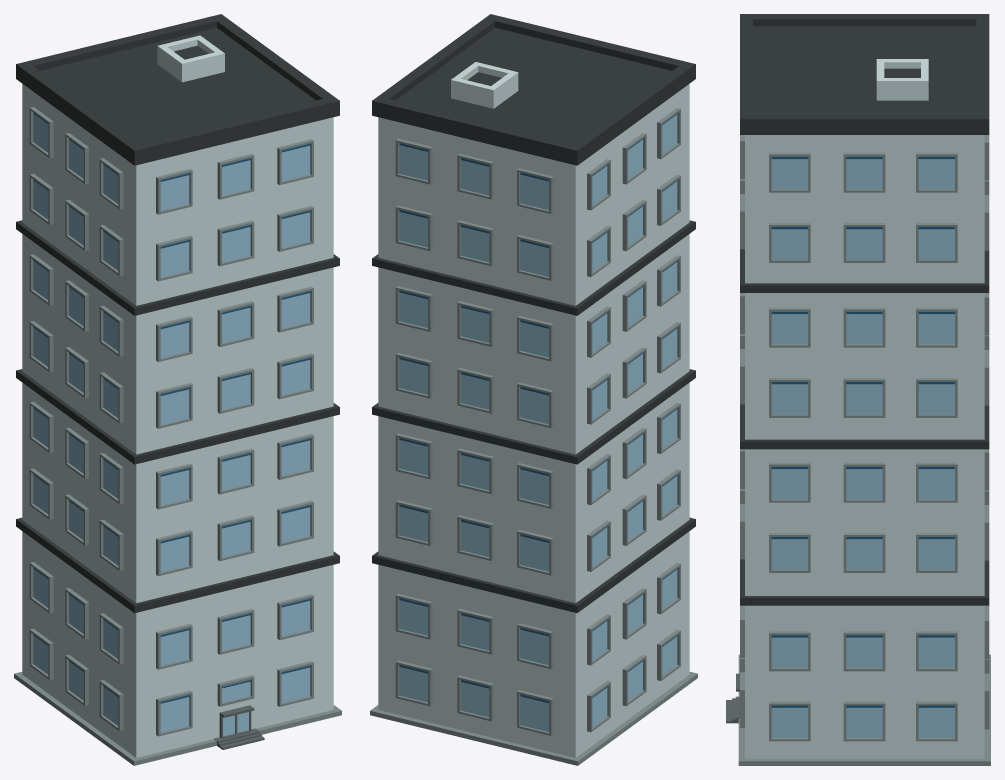
Rendered from White Stack High.fbx.
The picture shows the model from 3 angles, left to right: view 1: azimuth 30°, elevation 25°; view 2: azimuth 150°, elevation 25°; view 3: azimuth 270°, elevation 25°; orthographic projection. The views are drawn at different scales.
Visible parts, largest first — view 1: White Stack High; view 2: White Stack High; view 3: White Stack High.
Part boxes in pixels (<box>): White Stack High: <box>14,14,341,765</box>; White Stack High: <box>370,14,697,765</box>; White Stack High: <box>726,14,990,765</box>.
Bounding box in the file's own units: 6.65 × 19.14 × 6.98.
